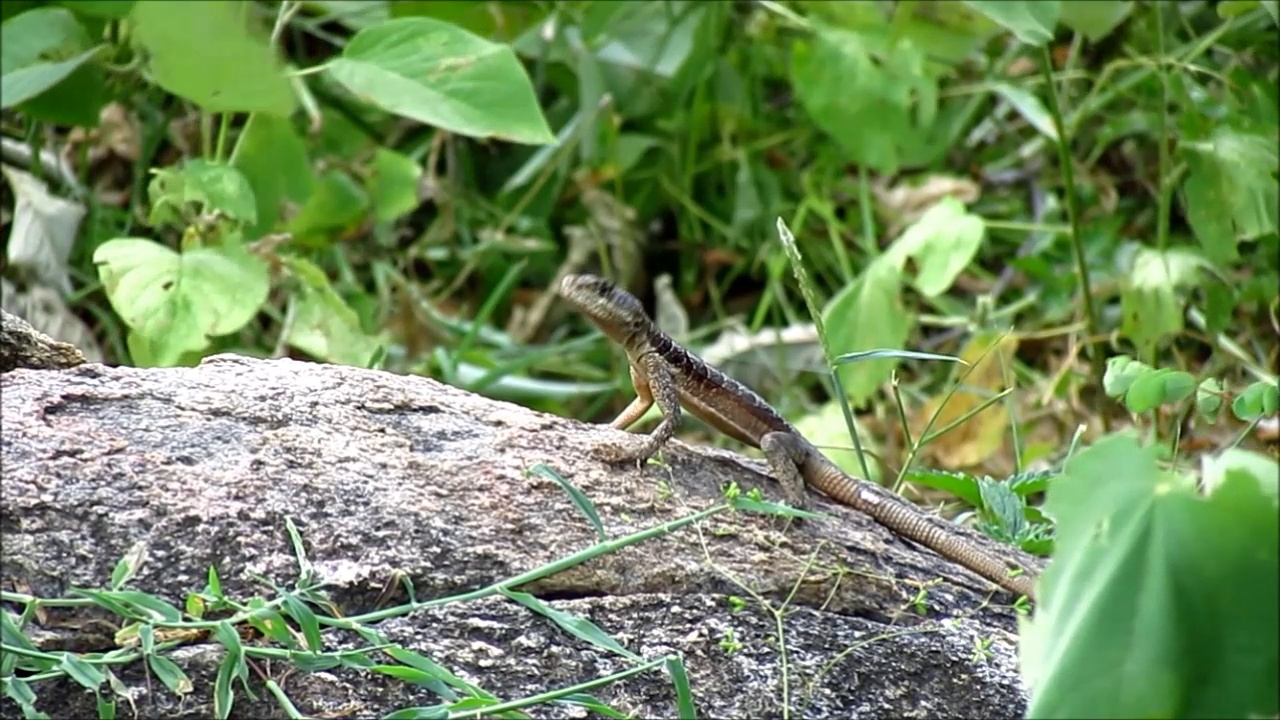body: (598, 312, 1038, 600)
head: (560, 274, 643, 340)
